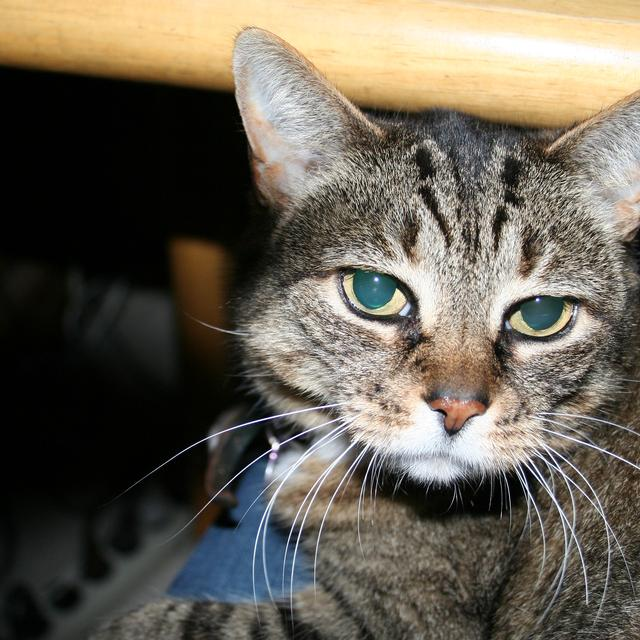animals: (250, 28, 640, 430)
